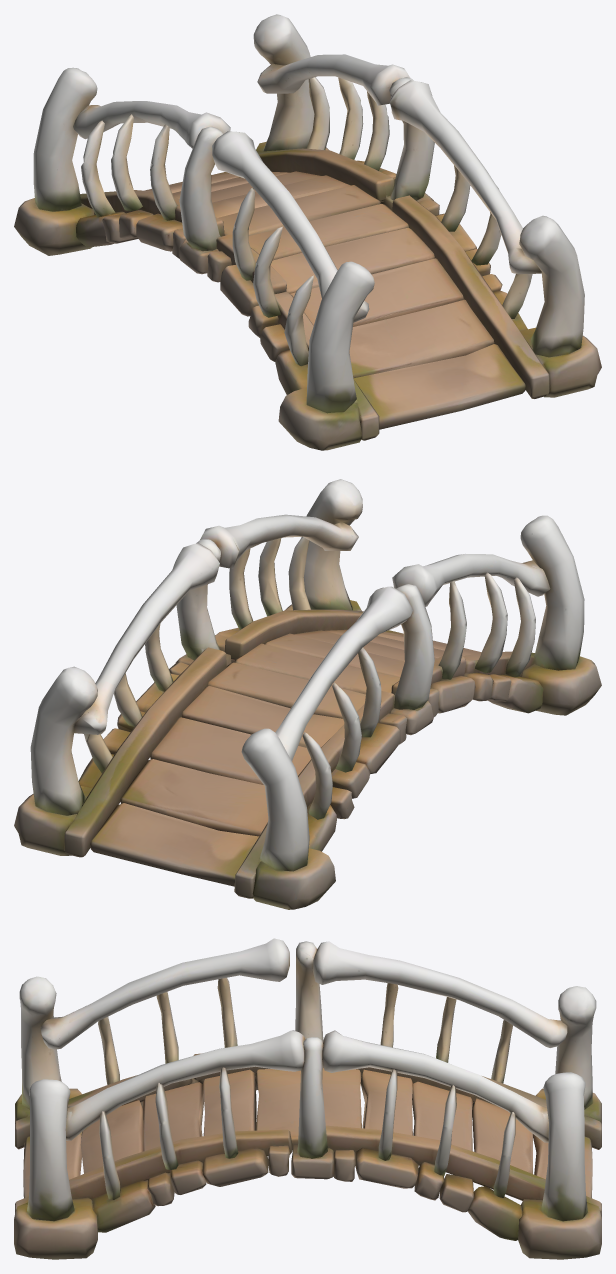
File: bone-bridge.glb
3 renders of one model, top to bottom at view 1: azimuth 30°, elevation 25°; view 2: azimuth 150°, elevation 25°; view 3: azimuth 270°, elevation 25°, orthographic. The views are drawn at different scales.
Visible parts, largest first — view 1: Bone Bridge; view 2: Bone Bridge; view 3: Bone Bridge.
Part boxes in pixels (x1,y1,x2,y2): Bone Bridge: (14,14,601,450); Bone Bridge: (14,479,601,909); Bone Bridge: (14,938,601,1259).
Size of the model in its own units: 0.5762 by 0.3926 by 0.998.
1 material, 1 textured.
